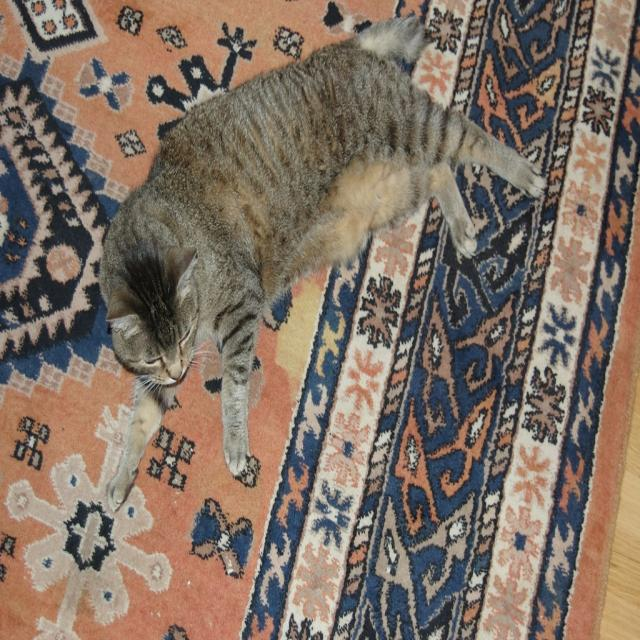Cat: (105, 11, 553, 516)
